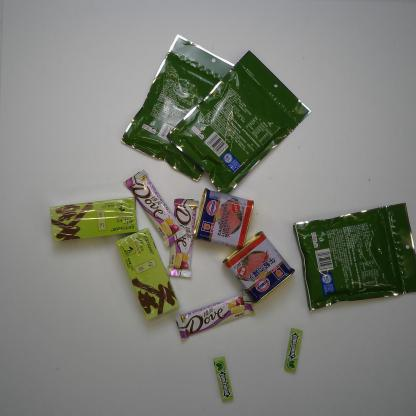Canned Food: (222, 231, 293, 307), (194, 188, 251, 253)
Chocolate: (120, 166, 183, 248), (175, 292, 255, 344), (167, 198, 195, 278)
Dried Fruit: (166, 49, 311, 194), (123, 30, 244, 180), (291, 182, 416, 310)
Gum: (212, 353, 240, 407), (282, 330, 306, 378)
Instant Drink: (119, 230, 181, 321), (49, 199, 137, 240)
